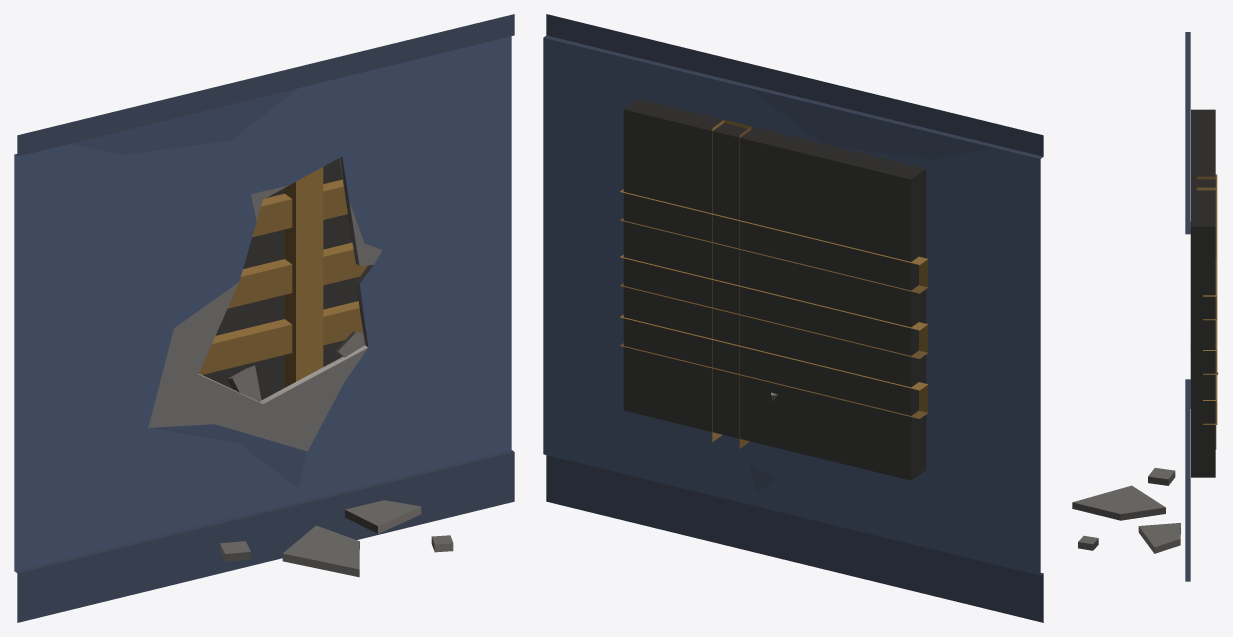
The model's file is AI_Env_Wall_Blue_Hole_Large.fbx.
The picture shows the model from 3 angles, left to right: view 1: azimuth 30°, elevation 25°; view 2: azimuth 150°, elevation 25°; view 3: azimuth 270°, elevation 25°; orthographic projection. The views are drawn at different scales.
Parts seen in each view (by area): view 1: AI_Env_Wall_Blue_Hole_Large; view 2: AI_Env_Wall_Blue_Hole_Large; view 3: AI_Env_Wall_Blue_Hole_Large.
Part boxes in pixels (x1=…): AI_Env_Wall_Blue_Hole_Large: x1=14, y1=14, x2=514, y2=622; AI_Env_Wall_Blue_Hole_Large: x1=543, y1=14, x2=1043, y2=622; AI_Env_Wall_Blue_Hole_Large: x1=1072, y1=32, x2=1218, y2=581.
Size of the model in its own units: 5 by 4.69 by 1.53.
